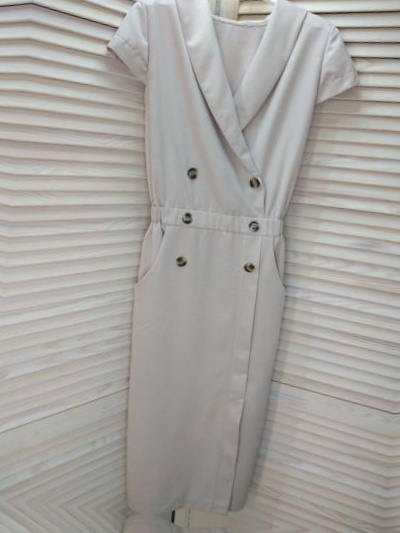Dress: (58, 0, 368, 525), (7, 512, 317, 533)
